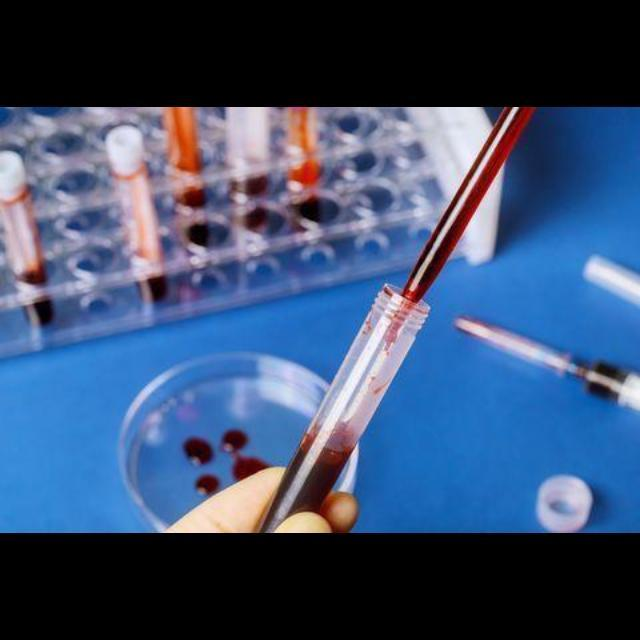blood: (403, 107, 535, 302), (261, 423, 360, 534), (221, 431, 271, 482), (184, 439, 213, 466), (196, 476, 220, 497)
